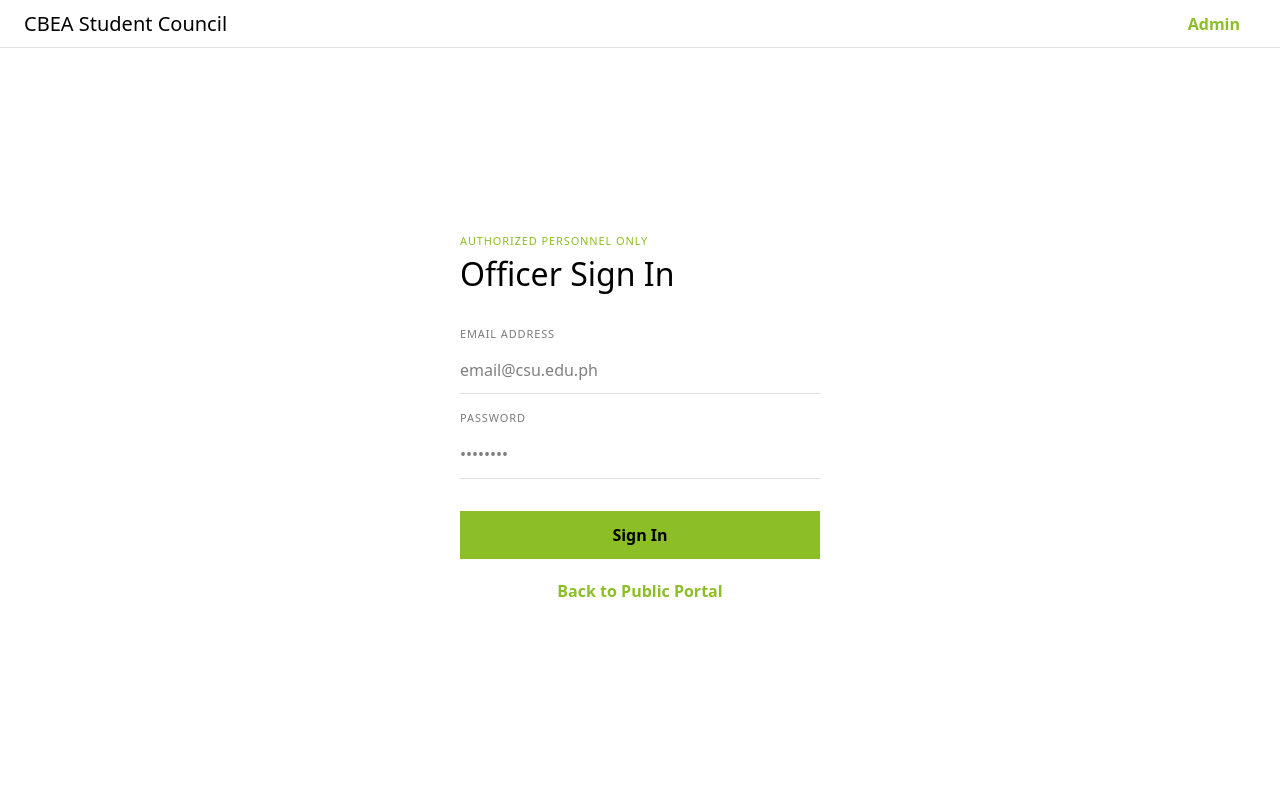
it: LoginPage Component › displays error message when authentication fails with Too many requests
Type "treasurer@csu.edu.ph" into the field with test id "email-input".
click(640, 370); type("treasurer@csu.edu.ph")  # box [460,346,820,394]
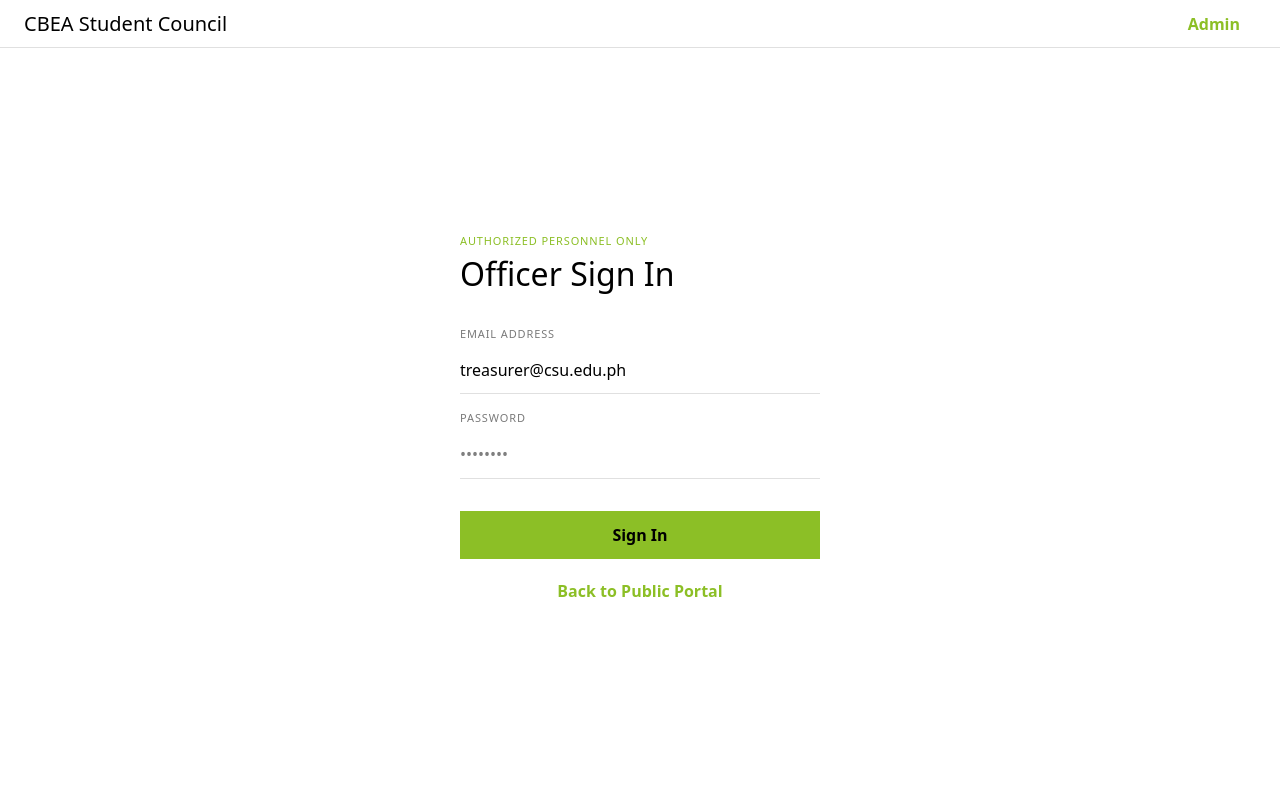
Type "password" into the password field with test id "password-input".
click(640, 455); type("password")  # box [460,431,820,479]
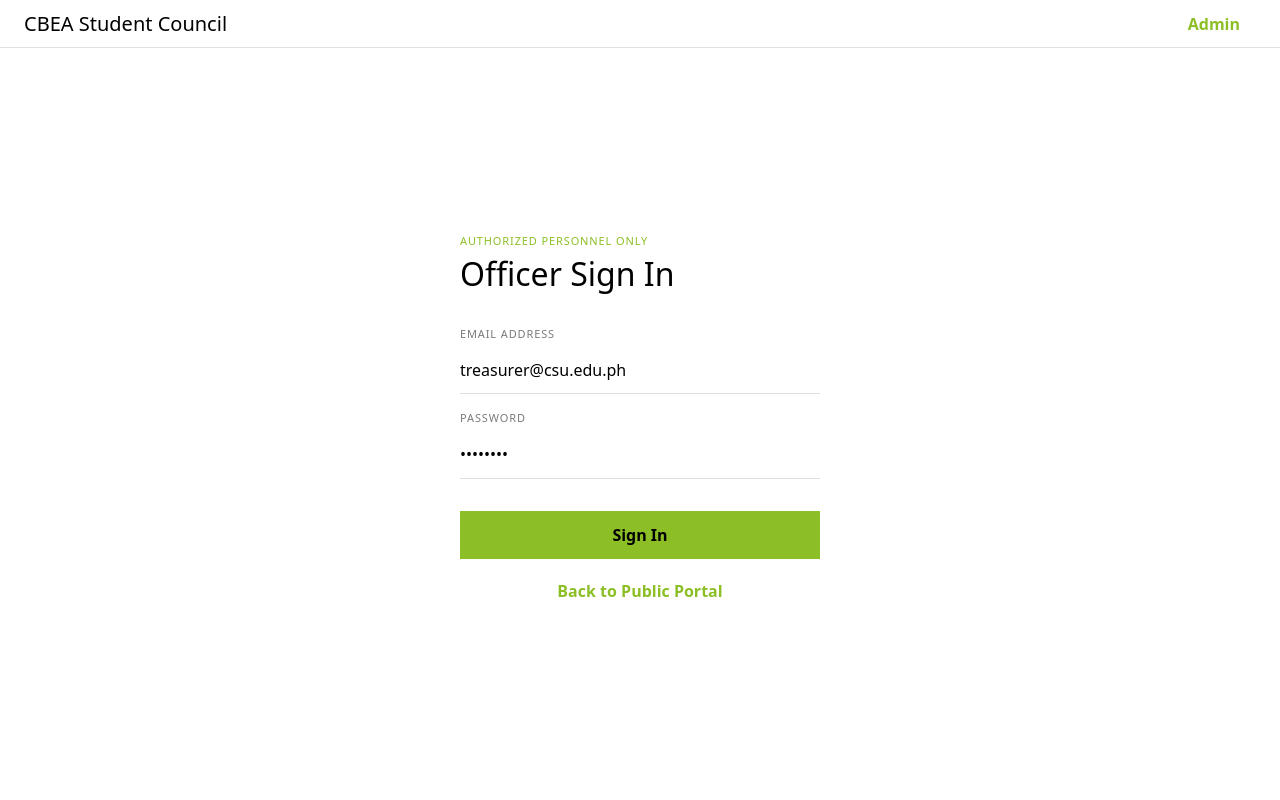
Submit the form with test id "email-input", box [460,326,820,615]
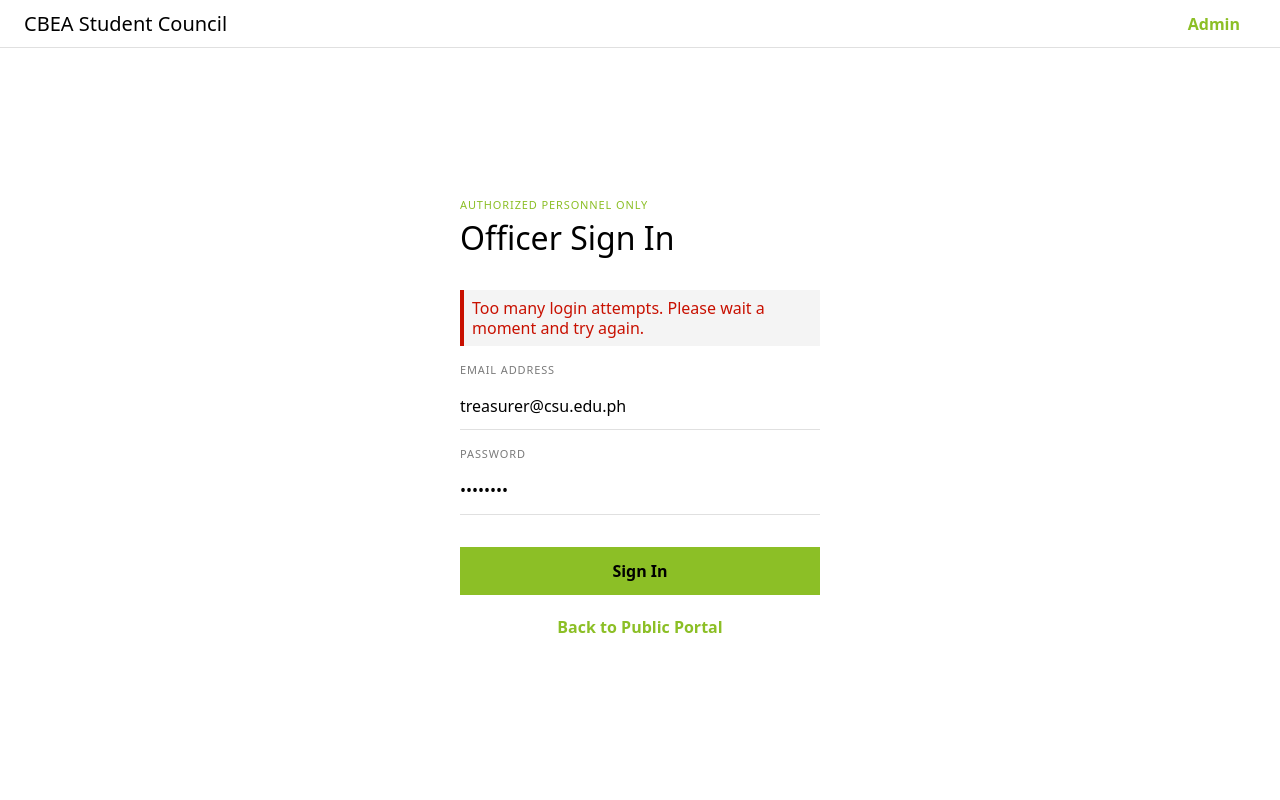
Result: the message with test id "login-error-message" reads "Too many login attempts. Please wait a moment and try again." at [472,297,765,339]
